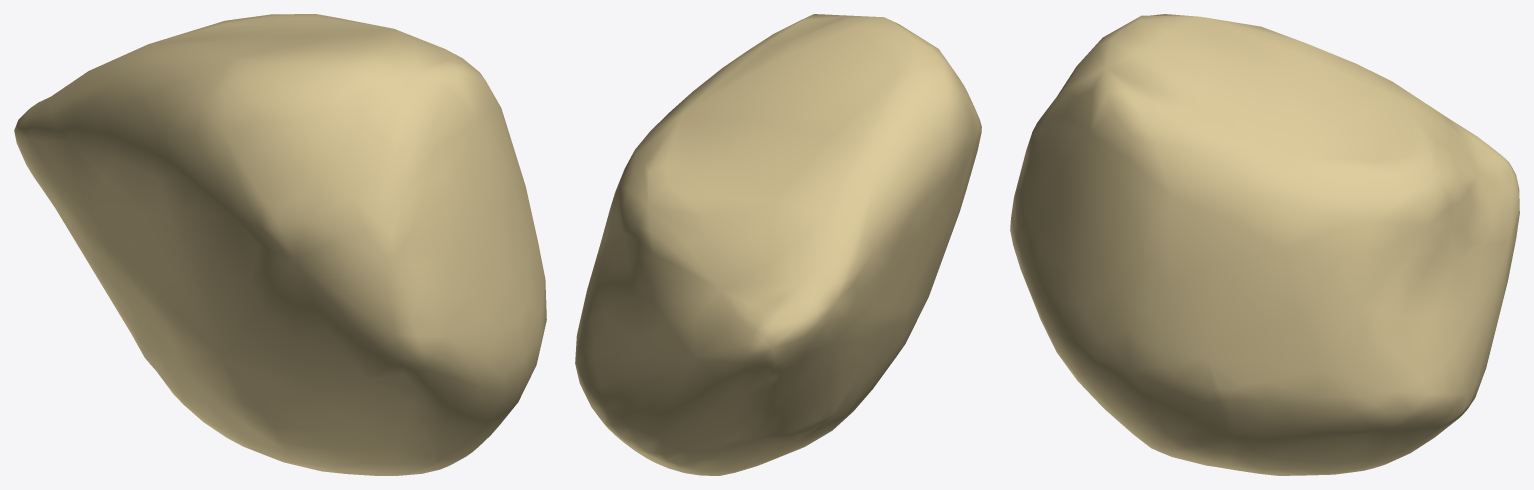
3 views of the same model, side by side, from view 1: azimuth 30°, elevation 25°; view 2: azimuth 150°, elevation 25°; view 3: azimuth 270°, elevation 25° (orthographic). The views are drawn at different scales.
Visible parts, largest first — view 1: 左侧豌豆骨; view 2: 左侧豌豆骨; view 3: 左侧豌豆骨.
Part boxes in pixels (left/top/right/bottom): 左侧豌豆骨: left=14, top=14, right=546, bottom=475; 左侧豌豆骨: left=575, top=14, right=981, bottom=475; 左侧豌豆骨: left=1010, top=14, right=1519, bottom=475.
Bounding box in the file's own units: 0.0125 × 0.0154 × 0.0178.
